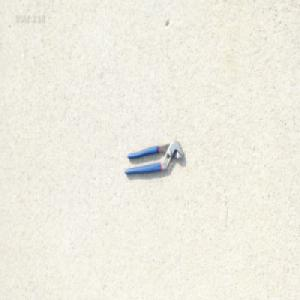Pliers: (122, 136, 183, 174)
